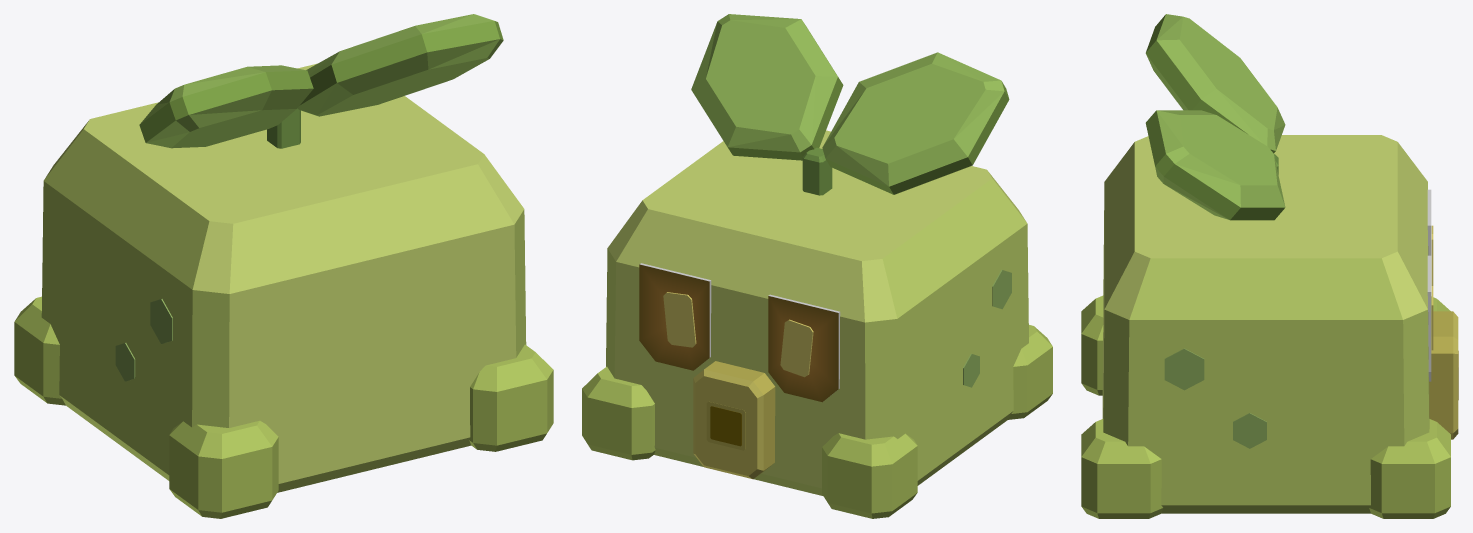
File: sprout_slime_roblox.glb
3 renders of one model, left to right at view 1: azimuth 30°, elevation 25°; view 2: azimuth 150°, elevation 25°; view 3: azimuth 270°, elevation 25°, orthographic. The views are drawn at different scales.
Visible parts, largest first — view 1: Body; view 2: Body, Eyes; view 3: Body.
Part boxes in pixels (x1=…): Body: x1=14, y1=14, x2=553, y2=518; Body: x1=582, y1=14, x2=1052, y2=518; Eyes: x1=663, y1=292, x2=813, y2=377; Body: x1=1081, y1=14, x2=1458, y2=518.
Bounding box in the file's own units: 1.06 × 1.14 × 1.06.
